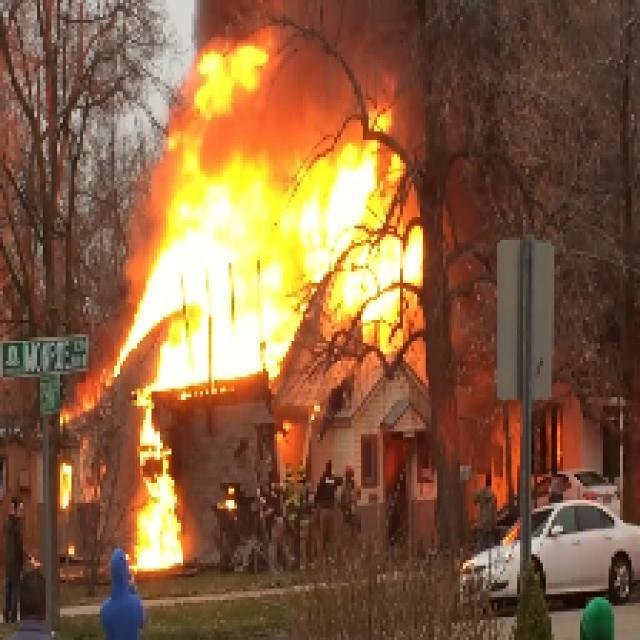Fire: (174, 157, 396, 376), (132, 392, 179, 572), (197, 50, 264, 113)
